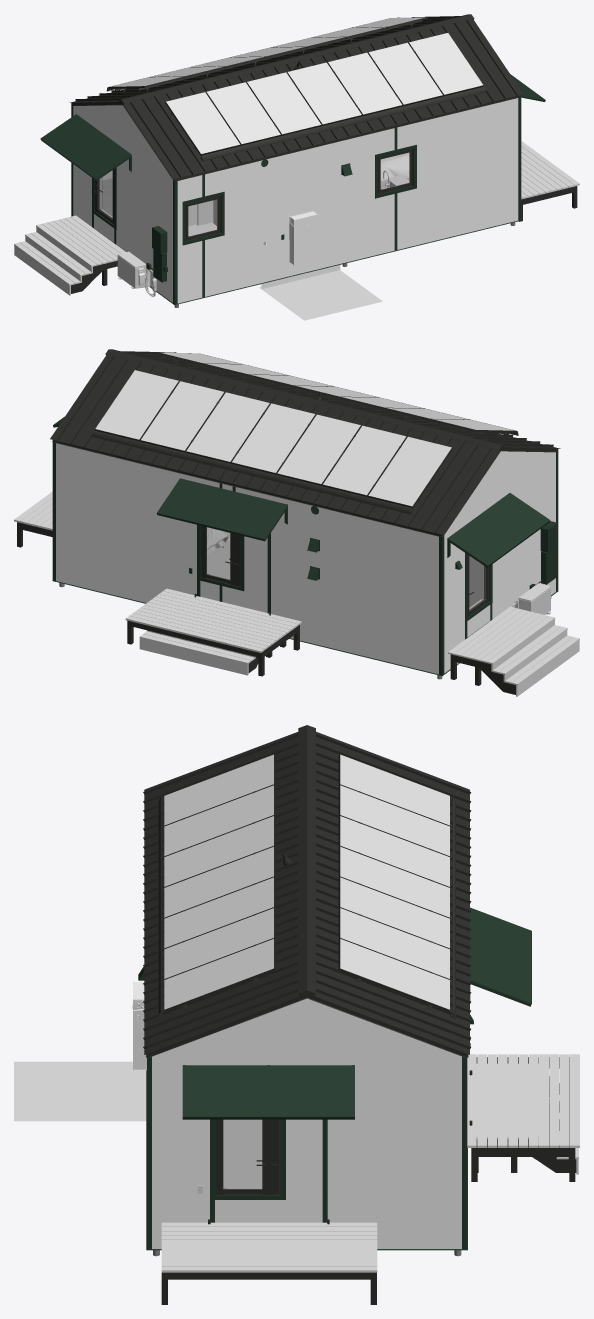
Rendered from Studio.glb.
3 renders of one model, top to bottom at view 1: azimuth 30°, elevation 25°; view 2: azimuth 150°, elevation 25°; view 3: azimuth 270°, elevation 25°, orthographic. The views are drawn at different scales.
Parts seen in each view (by area): view 1: Wall_e_BackWindow_S, SP_Right_S, Roof_S, Tesla_shadow, Wall_e_LeftWindow_S, Deck_S, Awning_Rigth_S, SP_Left_S, Shield_Right_S, Deck_Left_S, Glass_S, Tesla_powerwall (+15 smaller); view 2: Wall_e_FrontDoor_S, Wall_e_FrontWindow_S, SP_Left_S, Roof_S, Wall_e_LeftWindow_S, Deck_S, Deck_Front_S, Awning_Front_S, Awning_Rigth_S, SP_Right_S, Shield_Left_S, Deck1_S (+17 smaller); view 3: Wall_e_LeftDoor_S, Roof_S, SP_Left_S, SP_Right_S, Deck_Left_S, Deck_Front_S, Awning_Left_S, Tesla_shadow, Wall_e_LefttDoor_S, Awning_Front_S, Floor_S, Door_GlassLeft_S (+12 smaller).
Part boxes in pixels (bbox=[...]): Wall_e_BackWindow_S: bbox=[177, 98, 518, 303]; SP_Right_S: bbox=[165, 32, 483, 155]; Roof_S: bbox=[69, 14, 523, 181]; Tesla_shadow: bbox=[259, 176, 382, 320]; Wall_e_LeftWindow_S: bbox=[73, 105, 172, 302]; Deck_S: bbox=[14, 215, 125, 295]; Awning_Rigth_S: bbox=[40, 114, 131, 180]; SP_Left_S: bbox=[109, 17, 427, 88]; Shield_Right_S: bbox=[200, 86, 485, 161]; Deck_Left_S: bbox=[521, 141, 579, 199]; Glass_S: bbox=[188, 153, 409, 236]; Tesla_powerwall: bbox=[289, 211, 318, 265]; Wall_e_FrontDoor_S: bbox=[56, 443, 438, 674]; Wall_e_FrontWindow_S: bbox=[56, 447, 438, 673]; SP_Left_S: bbox=[94, 370, 452, 507]; Roof_S: bbox=[50, 349, 560, 537]; Wall_e_LeftWindow_S: bbox=[444, 451, 555, 673]; Deck_S: bbox=[448, 606, 579, 696]; Deck_Front_S: bbox=[125, 588, 301, 652]; Awning_Front_S: bbox=[156, 478, 287, 541]; Awning_Rigth_S: bbox=[447, 493, 550, 567]; SP_Right_S: bbox=[158, 352, 516, 432]; Shield_Left_S: bbox=[92, 430, 412, 514]; Deck1_S: bbox=[139, 630, 255, 675]; Wall_e_LeftDoor_S: bbox=[152, 998, 461, 1248]; Roof_S: bbox=[143, 725, 471, 1058]; SP_Left_S: bbox=[338, 754, 450, 1012]; SP_Right_S: bbox=[164, 754, 275, 1012]; Deck_Left_S: bbox=[161, 1222, 377, 1272]; Deck_Front_S: bbox=[467, 1054, 579, 1147]; Awning_Left_S: bbox=[182, 1065, 354, 1119]; Tesla_shadow: bbox=[14, 1061, 146, 1121]; Wall_e_LefttDoor_S: bbox=[215, 1119, 322, 1222]; Awning_Front_S: bbox=[470, 907, 531, 1006]; Floor_S: bbox=[223, 1119, 262, 1188]; Door_GlassLeft_S: bbox=[223, 1120, 261, 1189].
Size of the model in its own units: 11.99 by 4.26 by 8.01.
